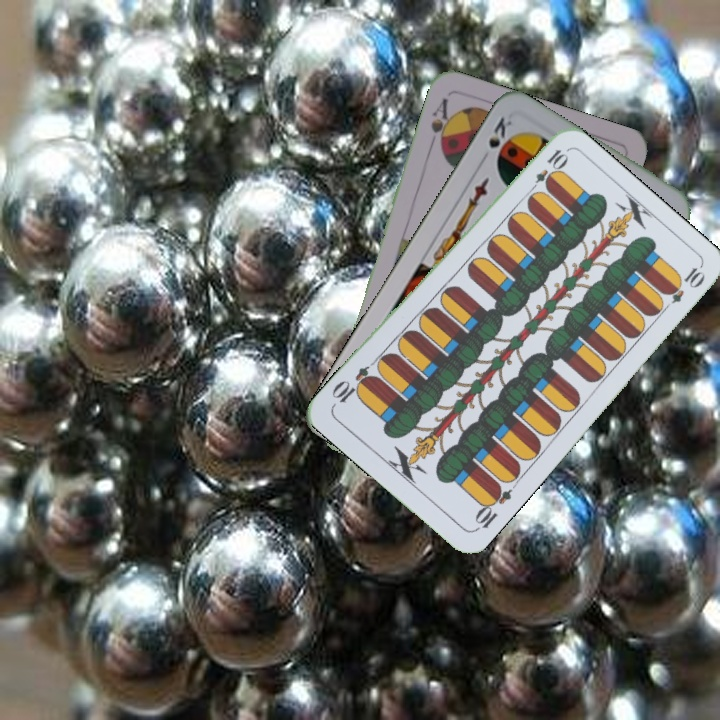E10: (524, 145, 570, 197), (470, 480, 514, 534)
SA: (425, 94, 456, 154)
SK: (484, 112, 515, 151)
